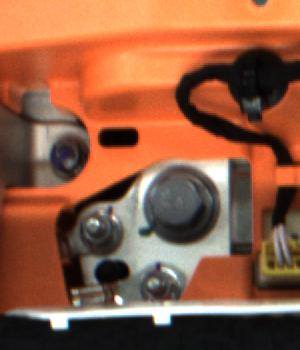nut_b: (149, 165, 222, 242)
